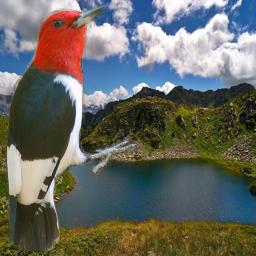Woodpecker: (4, 5, 137, 251)
